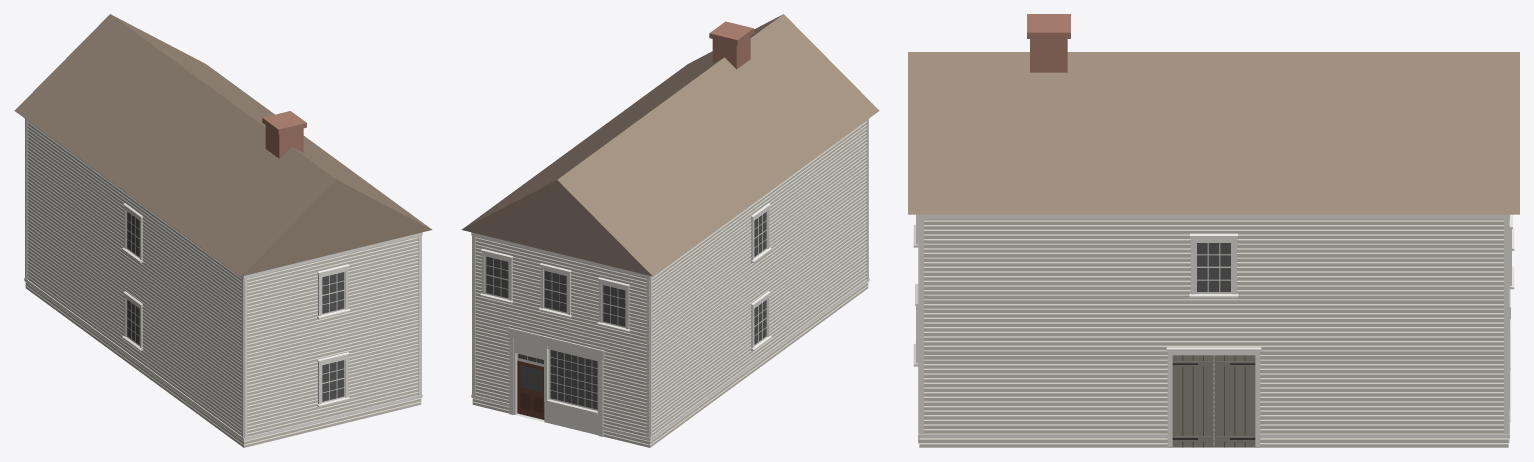
The model's file is recon_1835_core_c3_043__inferred_1835.glb.
3 renders of one model, left to right at view 1: azimuth 30°, elevation 25°; view 2: azimuth 150°, elevation 25°; view 3: azimuth 270°, elevation 25°, orthographic. The views are drawn at different scales.
Parts seen in each view (by area): view 1: recon_1835_core_c3_043__inferred_1835; view 2: recon_1835_core_c3_043__inferred_1835; view 3: recon_1835_core_c3_043__inferred_1835.
Part boxes in pixels (x1,y1,x2,y2): recon_1835_core_c3_043__inferred_1835: [14, 14, 432, 447]; recon_1835_core_c3_043__inferred_1835: [461, 14, 879, 447]; recon_1835_core_c3_043__inferred_1835: [908, 14, 1519, 447].
Bounding box in the file's own units: 6.66 × 9 × 13.64.
